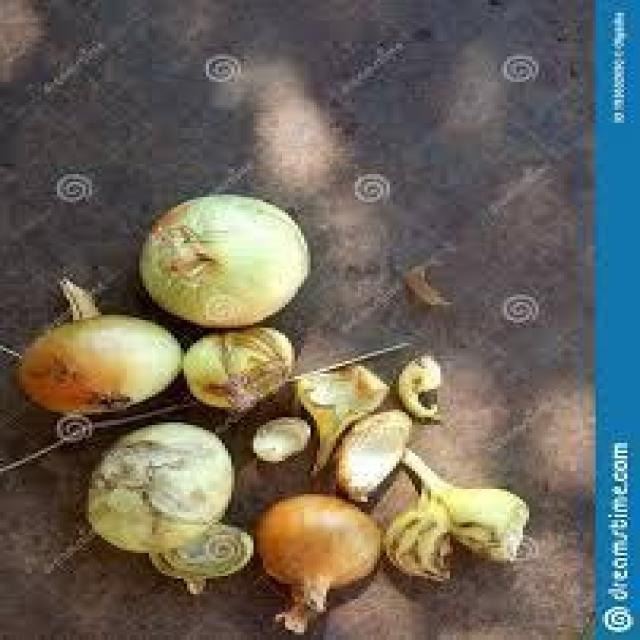Onion: (89, 422, 254, 594), (146, 194, 314, 326), (19, 307, 190, 425), (383, 453, 532, 586), (257, 490, 383, 634), (294, 371, 386, 466), (336, 410, 418, 510), (190, 332, 292, 410), (250, 412, 317, 469), (393, 356, 450, 422)
